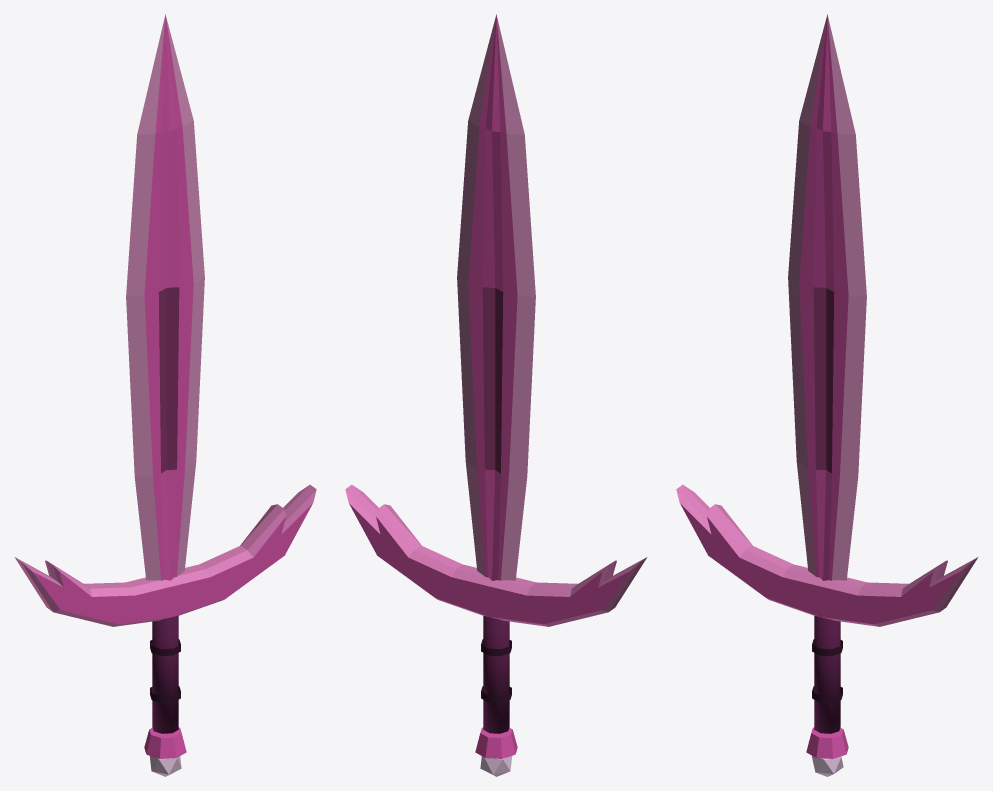
File: orichalcum_shortsword.glb
3 views of the same model, side by side, from view 1: azimuth 30°, elevation 25°; view 2: azimuth 150°, elevation 25°; view 3: azimuth 330°, elevation 25° (orthographic).
Parts seen in each view (by area): view 1: orichalcum_shortsword_v0; view 2: orichalcum_shortsword_v0; view 3: orichalcum_shortsword_v0.
Part boxes in pixels (bbox=[...]): orichalcum_shortsword_v0: bbox=[14, 14, 316, 776]; orichalcum_shortsword_v0: bbox=[345, 14, 647, 776]; orichalcum_shortsword_v0: bbox=[676, 14, 978, 776].
Size of the model in its own units: 0.528 by 1.3 by 0.068.
